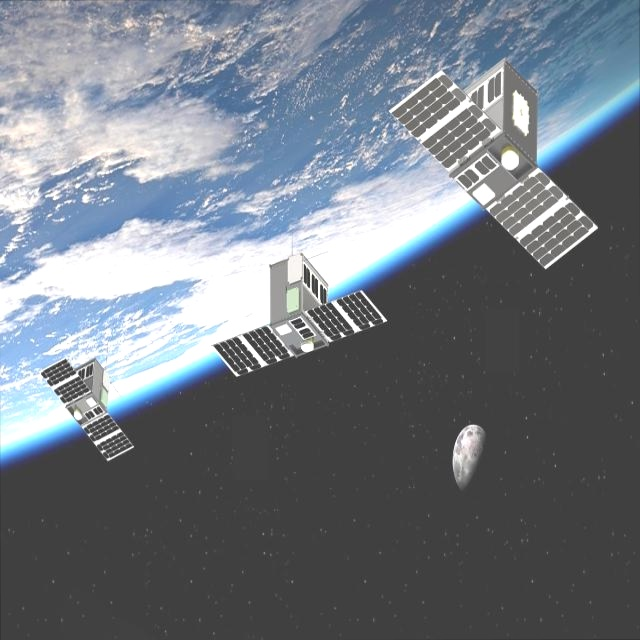large_debris: (445, 403, 495, 505)
satellite: (376, 34, 607, 270), (205, 243, 402, 377), (25, 322, 134, 475)
